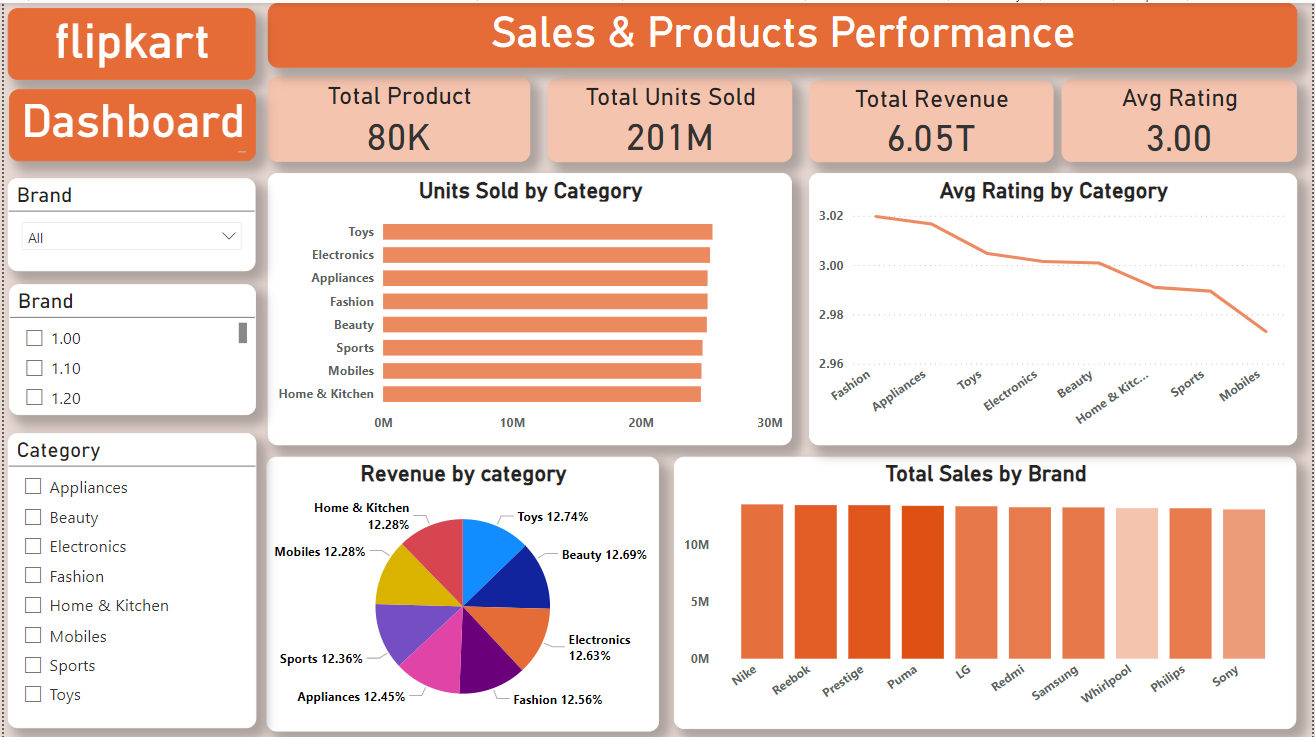

Layout of this report page (visuals, bound fields, positions):
{"tool":"powerbi","page":{"name":"Page 1","canvas":[1280,720],"ordinal":0},"visuals":[{"type":"card","title":"Total Product","fields":{"Values":["flipkard.Total Product"]},"box":[257.8,72,256.6,83.4],"z":0},{"type":"card","title":"Total Units Sold","fields":{"Values":["flipkard.Total Units Sold"]},"box":[532.1,73.3,238.9,82.1],"z":1000},{"type":"card","title":"Total Revenue","fields":{"Values":["flipkard.Total Revenue"]},"box":[787.4,75.8,238.9,79.6],"z":2000},{"type":"card","title":"Avg Rating","fields":{"Values":["flipkard.Avg Rating"]},"box":[1035.1,74.6,230,80.9],"z":3000},{"type":"barChart","title":"Units Sold by Category","fields":{"Category":["flipkard.category"],"Y":["flipkard.Units sold by Category"]},"box":[257.8,166.8,513.1,266.7],"z":4000},{"type":"pieChart","title":" Revenue by category","fields":{"Category":["flipkard.category"],"Y":["flipkard.Total Revenue"]},"box":[256.6,443.6,384.2,269.2],"z":5000},{"type":"columnChart","title":"Total  Sales by Brand","fields":{"Category":["flipkard.brand"],"Y":["flipkard.Brand Sales"]},"box":[655.9,443.6,609.2,266.7],"z":6000},{"type":"lineChart","title":"Avg Rating by Category","fields":{"Category":["flipkard.category"],"Y":["flipkard.Avg Rating"]},"box":[787.4,166.8,477.7,266.7],"z":7000},{"type":"slicer","title":"Category","fields":{"Values":["flipkard.category"]},"box":[3.9,420.6,243.2,289.2],"z":8000},{"type":"slicer","title":"Brand","fields":{"Values":["flipkard.brand"]},"box":[3.8,170.6,242.7,91],"z":9000},{"type":"slicer","title":"Brand","fields":{"Values":["flipkard.rating"]},"box":[5.1,275.5,241.4,127.6],"z":10000},{"type":"textbox","title":"Sales & Products Performance","box":[257.8,0,1007.3,63.2],"z":10001},{"type":"textbox","title":"flipkart","box":[3.8,5.1,242.7,70.8],"z":10002},{"type":"textbox","title":"Dashboard","box":[5.1,84.7,241.4,70.8],"z":10003}]}

Visuals, with their boxes in screenshot pixels (x1, y1, x2, y2), scaled from the page's 1280x720 canvas onto the 1315x737 screenshot:
"Total Product" card: (265, 74, 528, 159)
"Total Units Sold" card: (547, 75, 792, 159)
"Total Revenue" card: (809, 78, 1054, 159)
"Avg Rating" card: (1063, 76, 1300, 159)
"Units Sold by Category" barChart: (265, 171, 792, 444)
" Revenue by category" pieChart: (264, 454, 658, 730)
"Total  Sales by Brand" columnChart: (674, 454, 1300, 727)
"Avg Rating by Category" lineChart: (809, 171, 1300, 444)
"Category" slicer: (4, 431, 254, 727)
"Brand" slicer: (4, 175, 253, 268)
"Brand" slicer: (5, 282, 253, 413)
"Sales & Products Performance" textbox: (265, 0, 1300, 65)
"flipkart" textbox: (4, 5, 253, 78)
"Dashboard" textbox: (5, 87, 253, 159)
